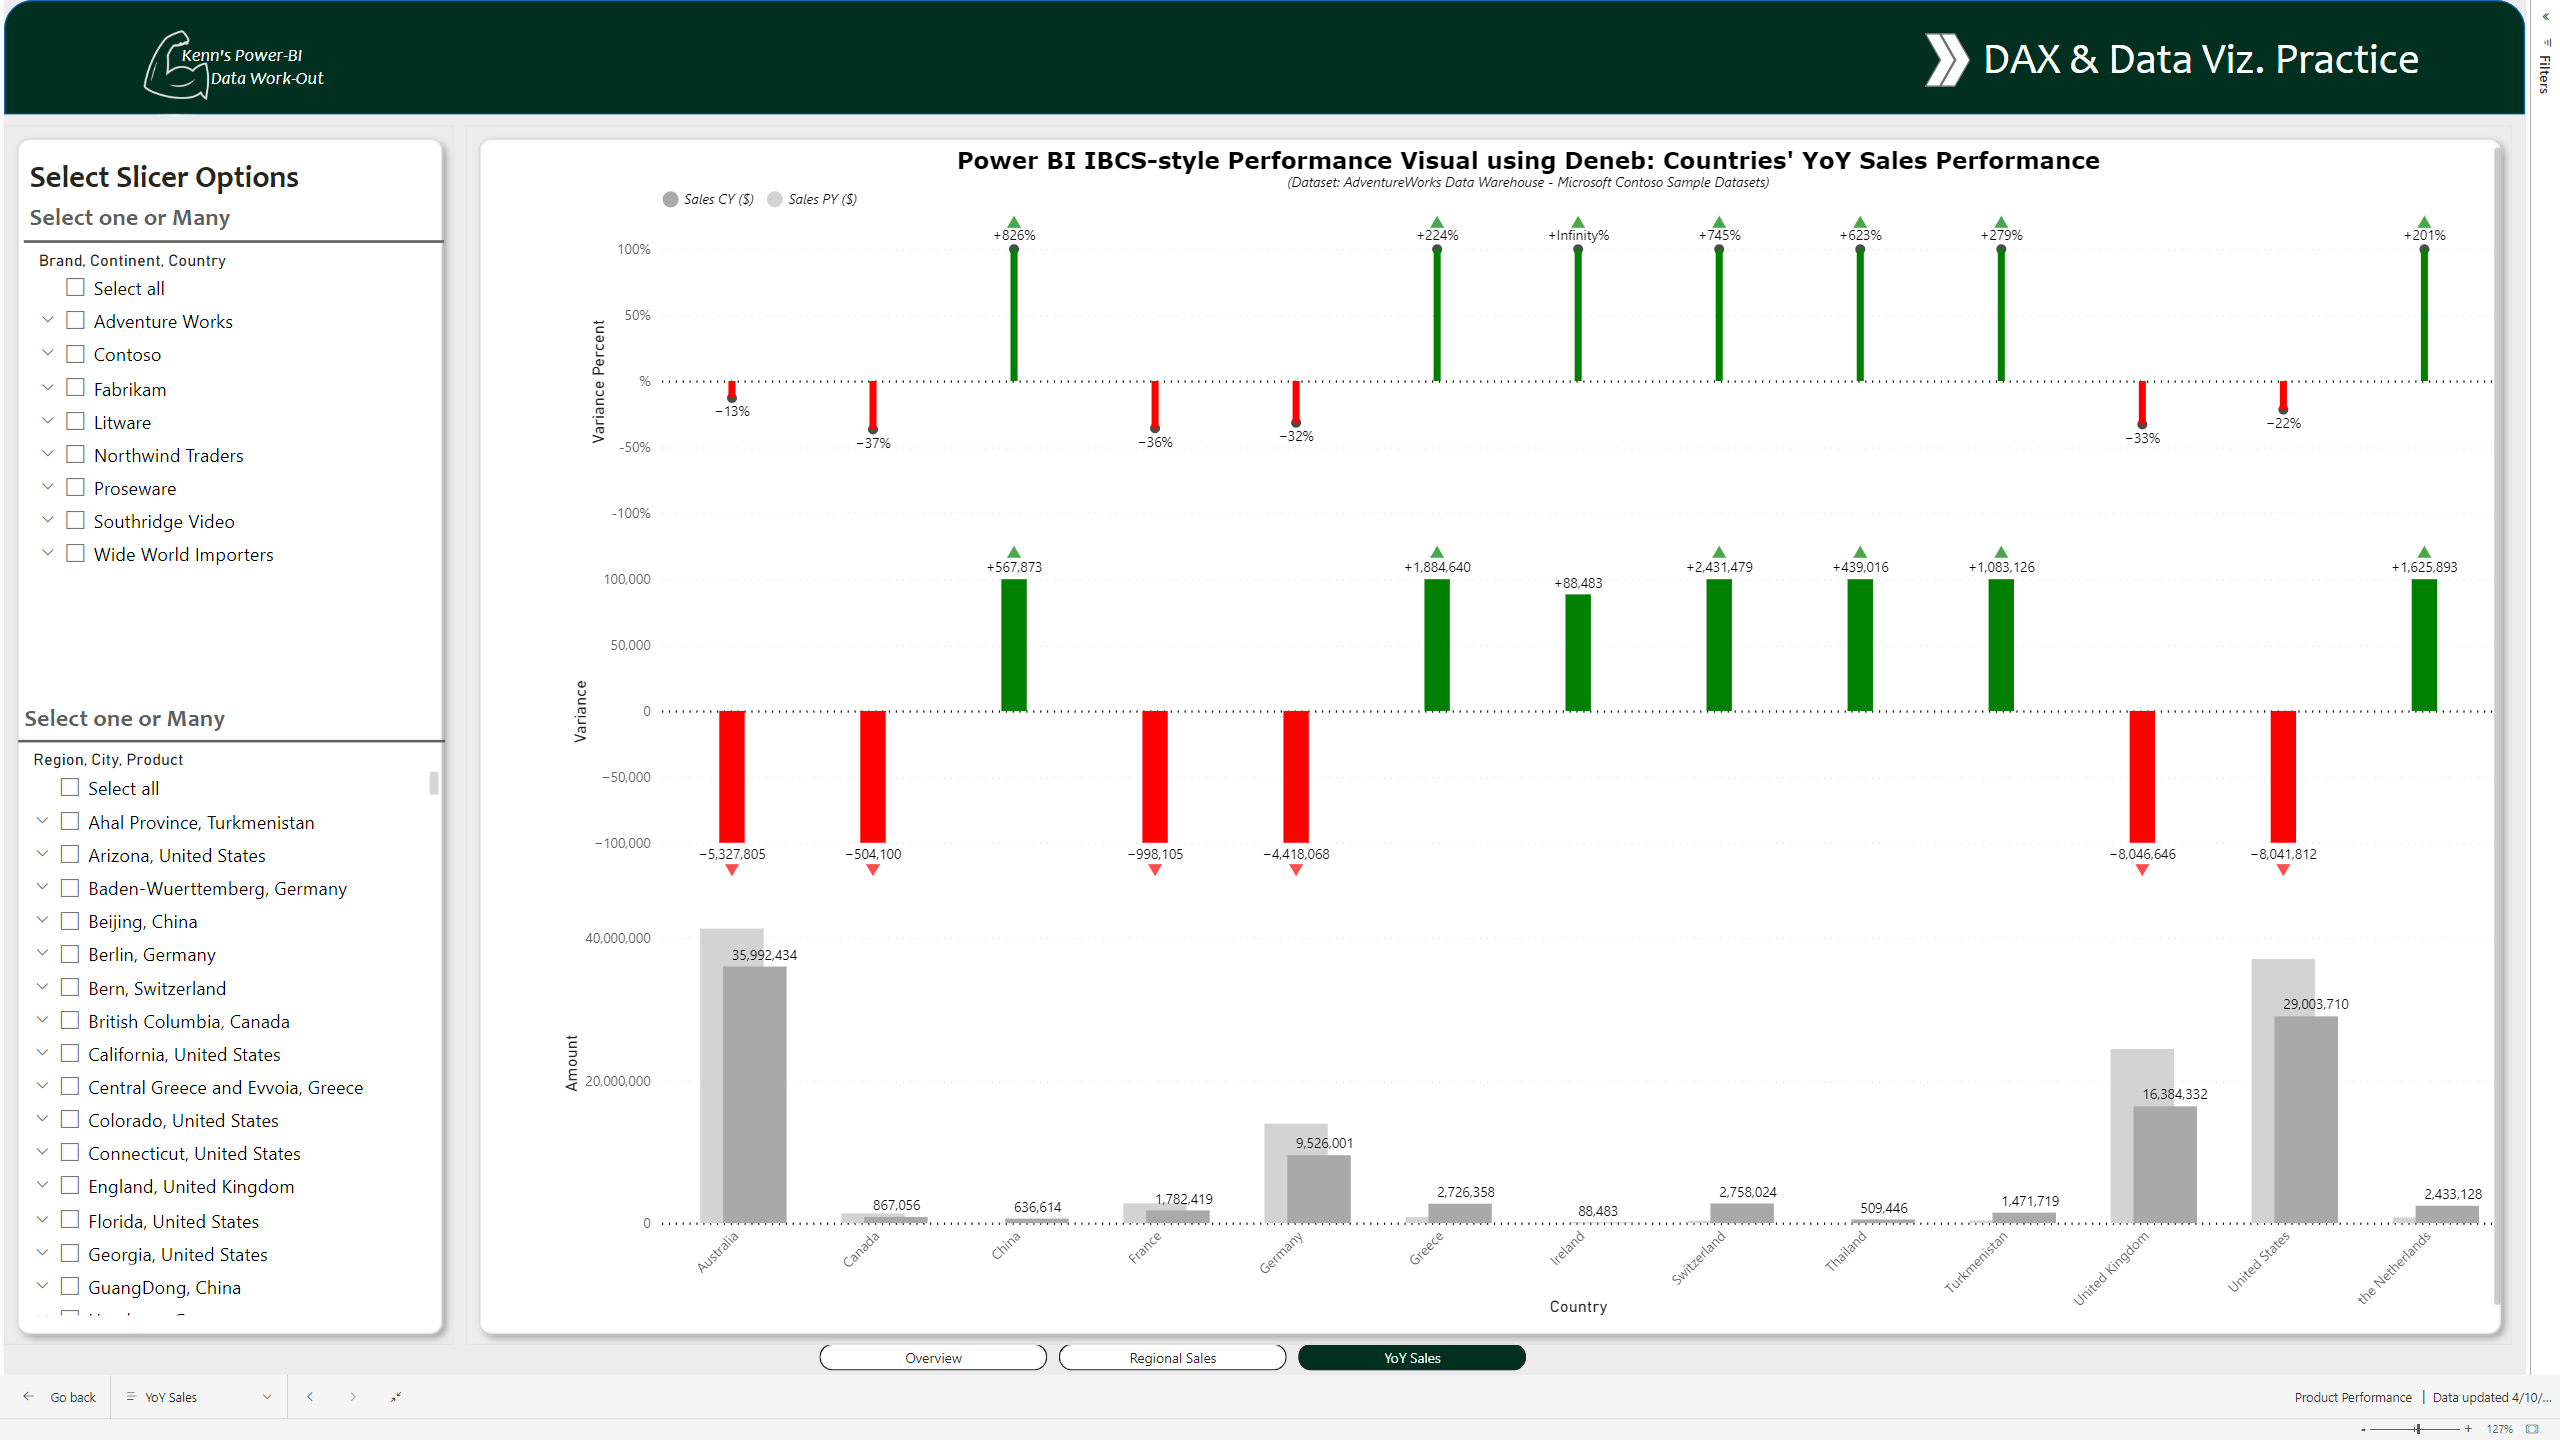

What the dashboard file says about the page in this screenshot:
{"tool":"powerbi","page":{"name":"YoY Sales","canvas":[2200,1200],"ordinal":2},"visuals":[{"type":"slicer","fields":{"Values":["Product Table.Product"]},"box":[11.2,103.4,489.3,84.4],"z":0},{"type":"slicer","fields":{"Values":["Sales.Continent"]},"box":[11.2,248.7,371.2,84.4],"z":1000},{"type":"slicer","fields":{"Values":["Sales.City"]},"box":[11.2,394.1,371.2,84.4],"z":2000},{"type":"deneb7E15AEF80B9E4D4F8E12924291ECE89A","fields":{"dataset":["Sales.Country","Key Measures.Sales CY ($)","Key Measures.Sales PY ($)"]},"box":[475.8,20.2,1709.6,1163],"z":3000},{"type":"slicer","fields":{"Values":["Sales.Region"]},"box":[11.2,539.5,371.2,84.4],"z":4000},{"type":"slicer","fields":{"Values":["Date.Date.Variation.Date Hierarchy.Month"]},"box":[11.2,684.8,371.2,84.4],"z":5000},{"type":"pageNavigator","box":[722.1,1147.2,599.5,49.5],"z":5001}]}

Visuals, with their boxes on the page's 2200x1200 design canvas (x1, y1, x2, y2). These are canvas units, not pixel positions in the 2560x1440 screenshot, which may show the page scaled, cropped or inside an application window:
slicer - Product Table.Product: [left=11, top=103, right=500, bottom=188]
slicer - Sales.Continent: [left=11, top=249, right=382, bottom=333]
slicer - Sales.City: [left=11, top=394, right=382, bottom=478]
deneb7E15AEF80B9E4D4F8E12924291ECE89A - Sales.Country x Key Measures.Sales CY ($): [left=476, top=20, right=2185, bottom=1183]
slicer - Sales.Region: [left=11, top=540, right=382, bottom=624]
slicer - Date.Date.Variation.Date Hierarchy.Month: [left=11, top=685, right=382, bottom=769]
pageNavigator: [left=722, top=1147, right=1322, bottom=1197]
